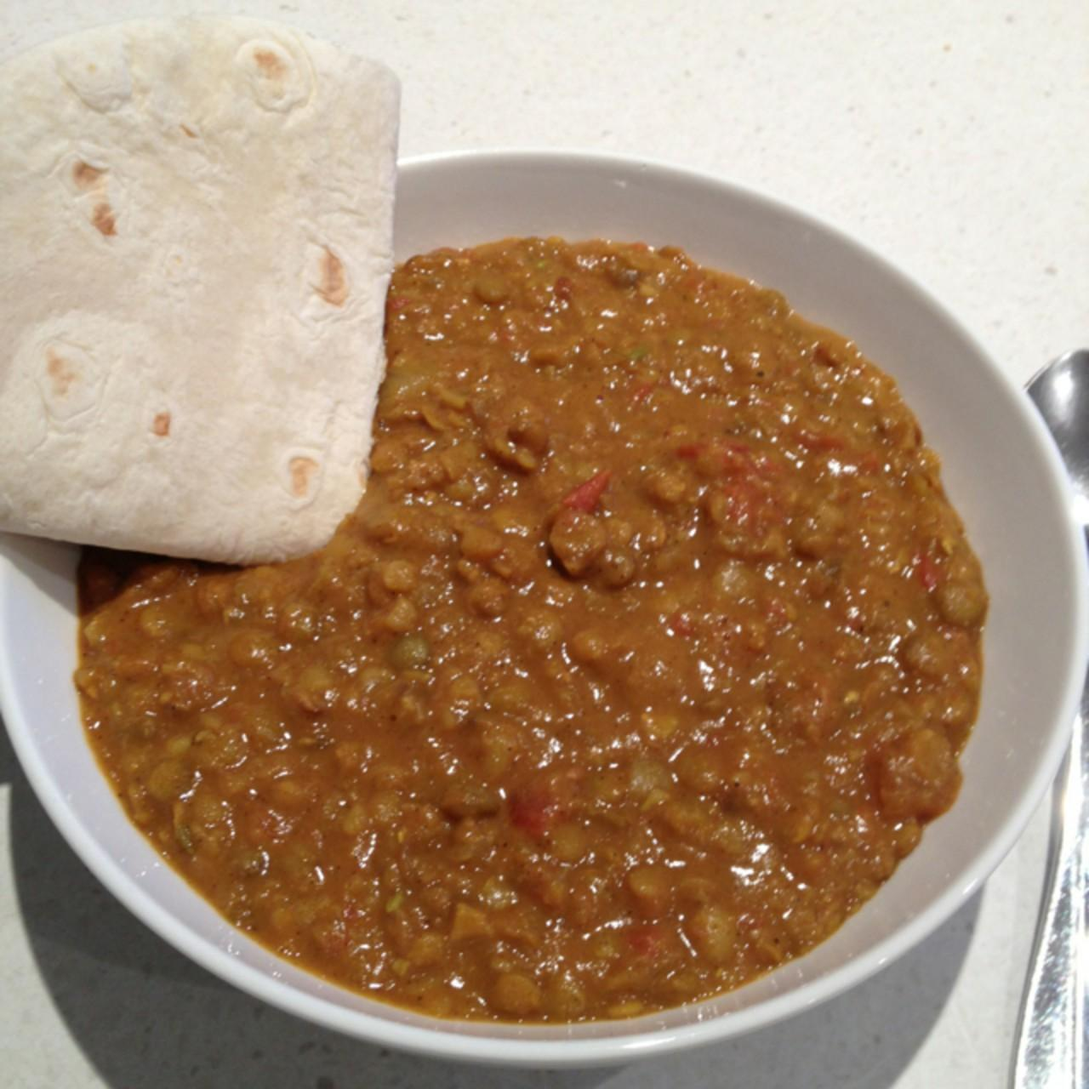Chole: (73, 235, 988, 1019)
